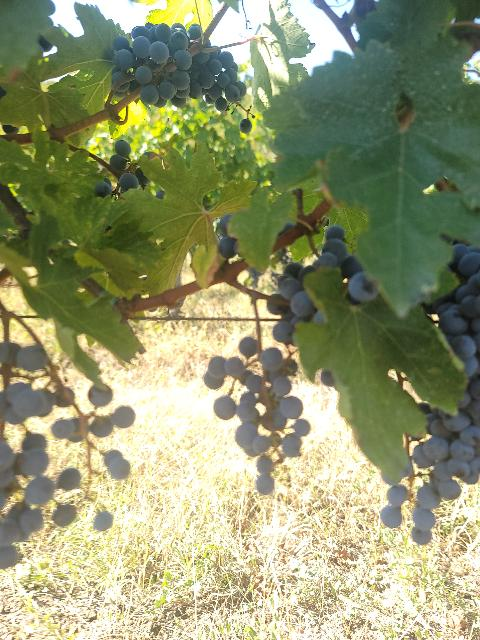grapes: (0, 305, 81, 569), (204, 338, 310, 495), (426, 244, 480, 499), (111, 22, 246, 111)
